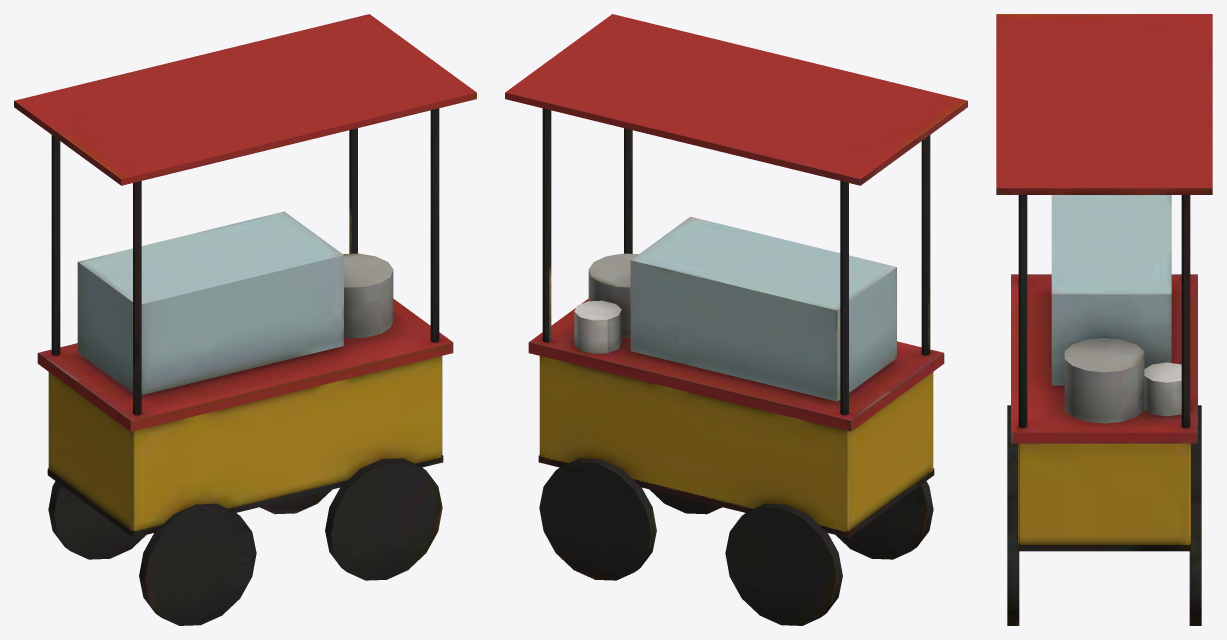
Rendered from fuchka_cart.glb.
The picture shows the model from 3 angles, left to right: view 1: azimuth 30°, elevation 25°; view 2: azimuth 150°, elevation 25°; view 3: azimuth 270°, elevation 25°; orthographic projection.
Parts seen in each view (by area): view 1: body; view 2: body; view 3: body.
Boxes of the visible parts, <box> form: body: <box>14,14,476,625</box>; body: <box>505,14,967,625</box>; body: <box>996,14,1212,625</box>.
Bounding box in the file's own units: 1.72 × 2.18 × 0.9.
Materials: 1 (1 with a texture image).
